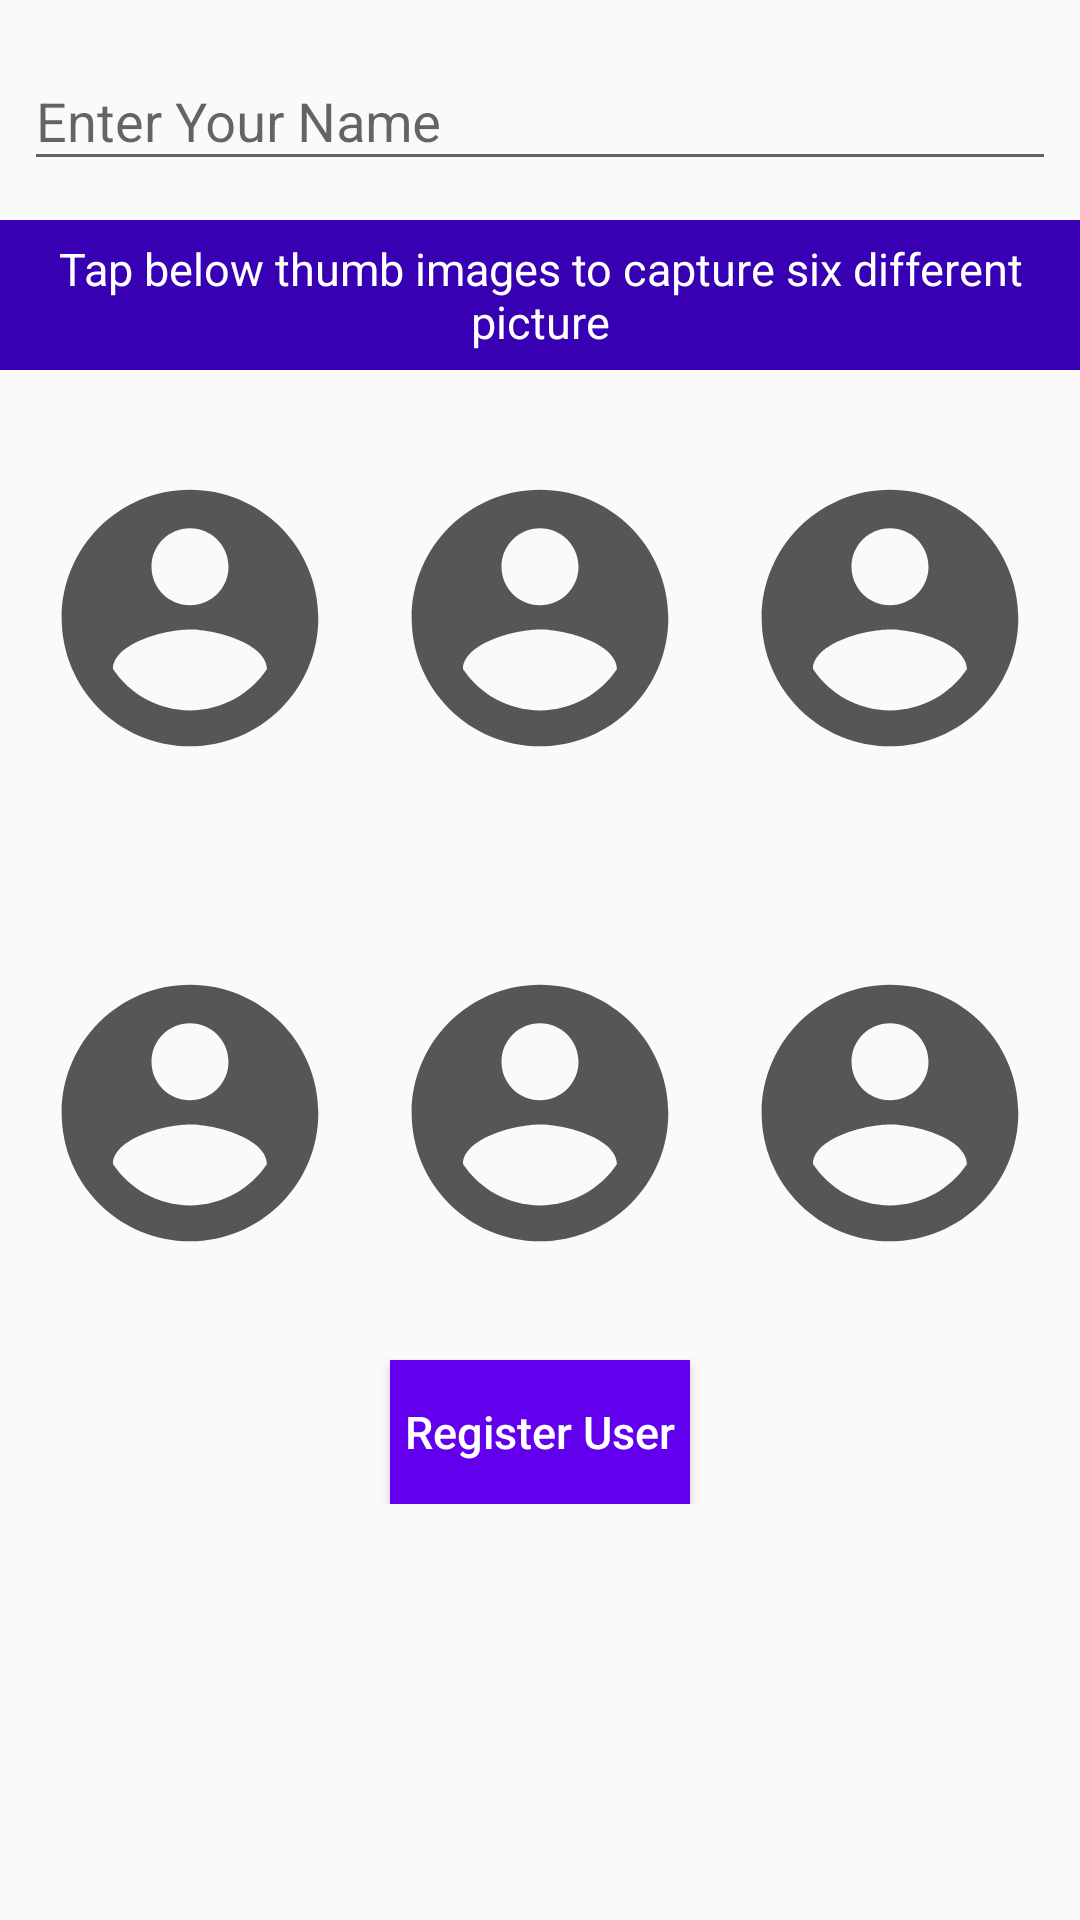

Named icons in this screenshot (1080px x 1920px) and their bounding boxes, (x1, y1, x2, y2):
account circle: (61, 489, 319, 747), (411, 489, 669, 747), (761, 489, 1019, 747), (61, 984, 319, 1242), (411, 984, 669, 1242), (761, 984, 1019, 1242)
